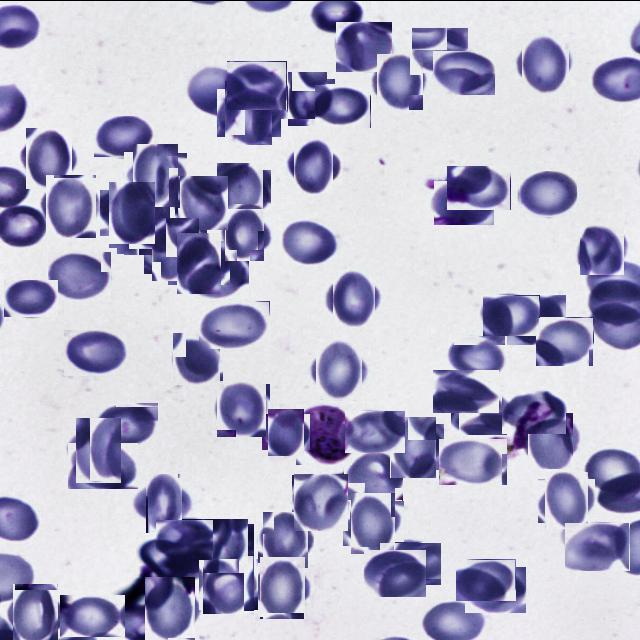difficult: (296, 404, 352, 464)
red blood cell: (199, 300, 270, 348), (186, 65, 250, 117), (43, 177, 100, 234), (142, 578, 198, 636), (439, 437, 508, 484), (68, 442, 138, 488), (565, 521, 630, 570), (48, 250, 112, 299), (293, 473, 349, 529), (148, 221, 204, 277), (221, 84, 277, 140), (70, 422, 126, 478), (201, 556, 256, 611), (364, 548, 427, 596), (344, 450, 404, 500), (282, 215, 342, 265), (63, 329, 128, 375), (313, 342, 367, 397), (518, 36, 573, 90), (386, 419, 440, 474), (128, 148, 183, 202), (104, 185, 159, 239), (507, 294, 566, 344), (227, 60, 287, 109), (22, 130, 76, 184), (214, 166, 268, 220), (256, 560, 310, 614), (447, 164, 511, 209), (9, 587, 63, 640), (536, 316, 594, 365), (433, 369, 499, 412), (96, 401, 159, 446), (347, 496, 400, 549), (215, 381, 268, 434), (112, 198, 166, 250), (465, 566, 526, 612), (336, 21, 392, 71), (172, 236, 225, 288), (502, 390, 566, 433), (60, 594, 125, 636), (433, 50, 495, 94), (176, 176, 228, 228), (518, 170, 576, 216), (380, 541, 442, 584), (374, 55, 425, 107), (196, 248, 249, 298), (434, 180, 494, 224), (412, 26, 469, 72), (451, 388, 508, 434), (525, 414, 576, 465), (260, 514, 312, 564), (448, 334, 506, 378), (328, 272, 379, 322), (541, 475, 592, 525), (94, 116, 154, 158), (345, 410, 405, 452), (456, 558, 516, 600), (172, 333, 222, 383), (202, 520, 252, 570), (315, 83, 371, 127), (156, 518, 214, 559), (483, 294, 540, 335), (290, 142, 338, 190), (140, 478, 188, 526), (578, 225, 626, 272), (284, 75, 331, 122), (222, 212, 268, 258), (4, 279, 58, 316), (265, 410, 307, 452)
